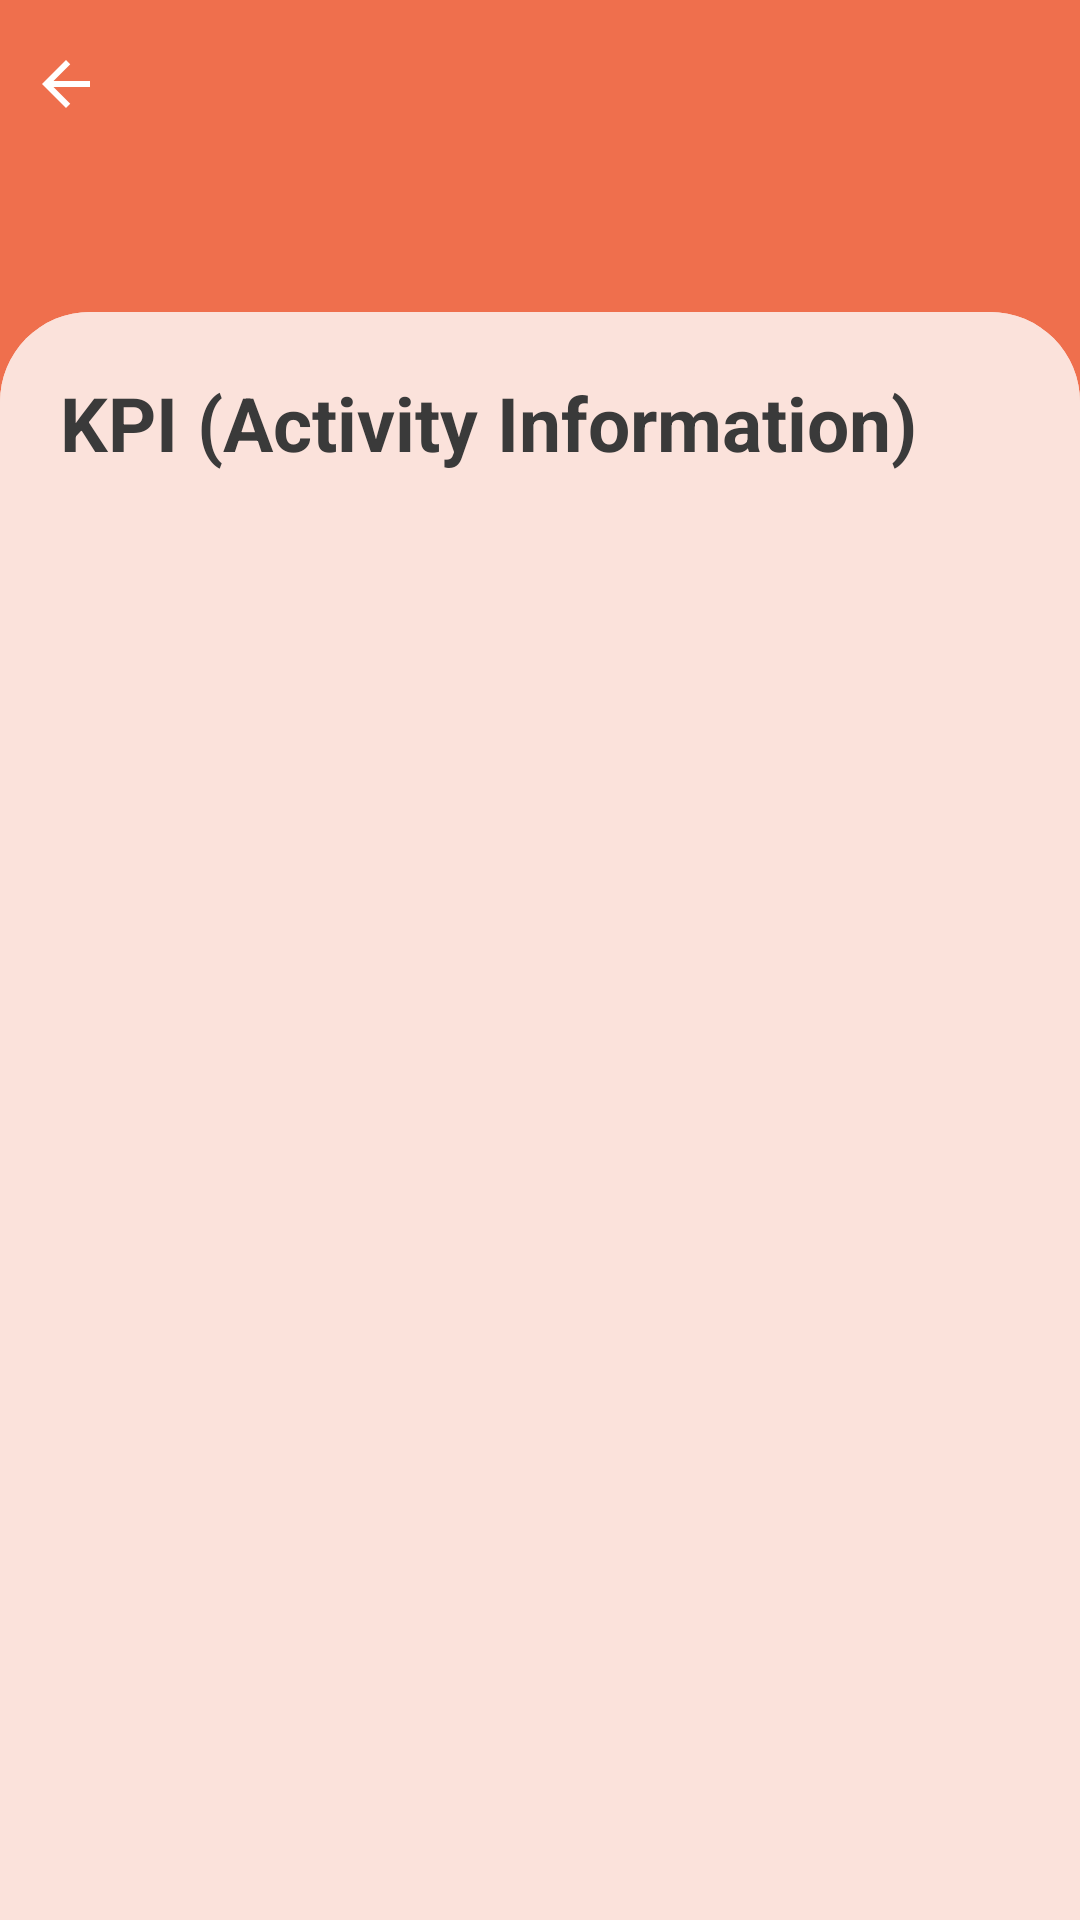

Icons on this 1080 × 1920 Android screen, each with its box as (x1,y1,x2,y2):
arrow back: (42,60,90,108)
